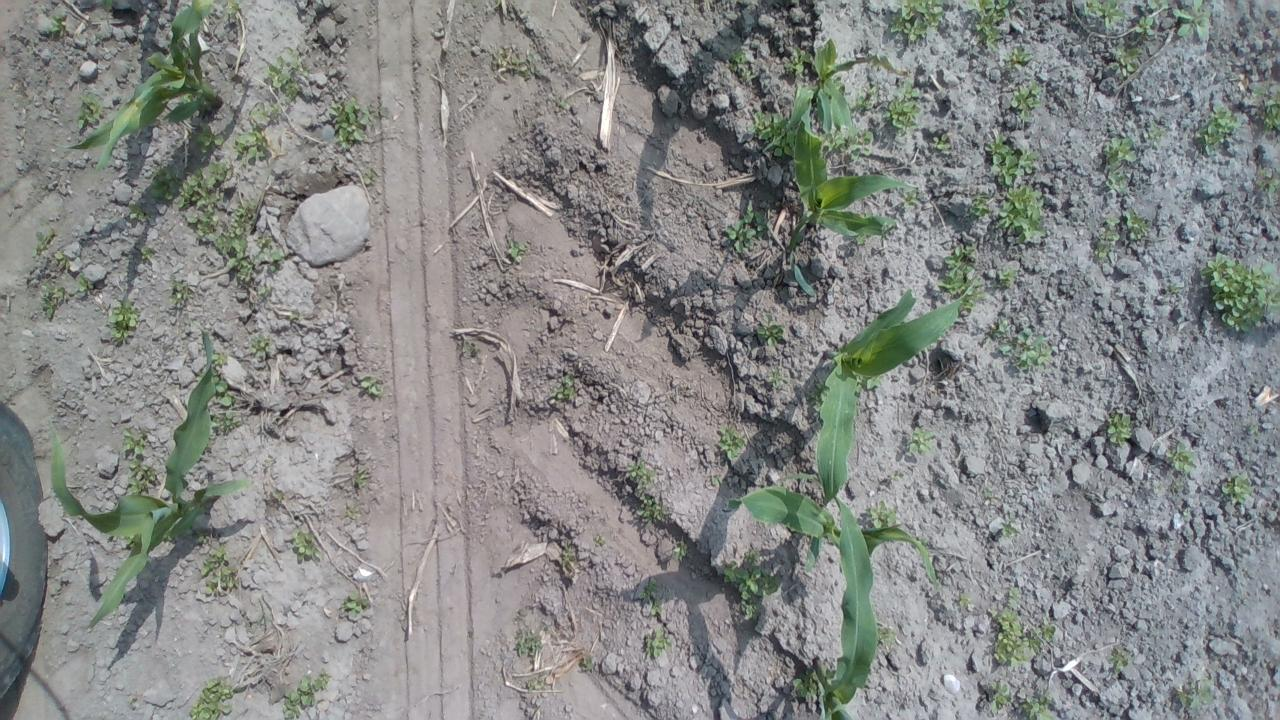Maize: (46, 322, 250, 626), (805, 282, 974, 581), (56, 0, 222, 169), (790, 100, 916, 298), (781, 472, 878, 720), (724, 490, 946, 590), (786, 34, 890, 142)
Weeds: (150, 161, 254, 282), (1202, 252, 1280, 332), (723, 548, 780, 622), (990, 608, 1056, 666), (937, 241, 988, 311), (990, 318, 1052, 372), (985, 134, 1041, 188), (966, 0, 1024, 52), (996, 184, 1046, 244), (326, 96, 381, 150), (120, 426, 157, 494), (882, 80, 924, 138), (282, 671, 331, 720), (724, 205, 769, 256), (266, 47, 309, 99), (890, 0, 944, 41), (746, 110, 794, 156), (1102, 136, 1136, 194), (1199, 105, 1241, 151), (202, 546, 240, 594), (191, 677, 233, 720), (825, 129, 873, 161), (1173, 0, 1212, 37), (1008, 80, 1042, 122), (1092, 214, 1120, 262), (1254, 84, 1280, 134), (1080, 0, 1126, 28), (108, 300, 140, 340), (715, 424, 747, 461), (76, 93, 106, 132), (1177, 679, 1213, 711), (208, 366, 236, 406), (1021, 688, 1056, 720), (255, 236, 285, 273), (192, 121, 225, 154), (1111, 46, 1145, 78), (494, 48, 534, 75), (1104, 412, 1134, 448), (39, 278, 64, 321), (233, 130, 268, 160), (246, 102, 283, 130), (1222, 472, 1252, 506), (290, 528, 320, 560), (782, 45, 816, 73), (1164, 440, 1194, 471), (866, 498, 896, 528), (339, 588, 370, 616), (728, 47, 754, 80), (626, 462, 656, 490), (30, 226, 56, 258), (1125, 210, 1151, 242), (848, 84, 877, 112), (640, 576, 660, 616), (166, 278, 194, 306), (905, 428, 934, 455), (644, 629, 671, 658), (512, 632, 542, 658), (988, 680, 1011, 712), (638, 496, 666, 522), (551, 375, 578, 401), (793, 670, 818, 698), (806, 380, 827, 413), (208, 412, 242, 432), (1254, 166, 1280, 192), (757, 324, 785, 348), (852, 371, 881, 394), (1007, 47, 1032, 71), (968, 192, 991, 218), (1107, 646, 1130, 672), (999, 511, 1020, 538), (996, 265, 1016, 290), (876, 624, 898, 646), (360, 375, 383, 396), (868, 54, 894, 72), (1135, 16, 1156, 38), (506, 240, 529, 258), (49, 14, 66, 38), (350, 468, 370, 488), (250, 334, 270, 354), (52, 252, 70, 274), (72, 272, 93, 290), (126, 206, 147, 224), (1150, 122, 1164, 148), (224, 0, 242, 20), (673, 540, 689, 561), (902, 190, 918, 210), (929, 134, 948, 150), (1006, 587, 1020, 608), (192, 529, 210, 545), (138, 244, 154, 260), (768, 372, 784, 387), (561, 544, 575, 561), (256, 284, 272, 298), (1148, 0, 1170, 10), (364, 167, 376, 185), (211, 352, 226, 366), (584, 655, 596, 672), (344, 504, 357, 519), (528, 680, 544, 692), (822, 668, 833, 684), (959, 592, 969, 609), (1248, 422, 1258, 436), (194, 371, 206, 382), (890, 472, 904, 481), (916, 536, 928, 546), (182, 94, 194, 103), (558, 98, 568, 108), (983, 488, 993, 498), (101, 0, 112, 9), (94, 32, 105, 41), (1167, 286, 1179, 294), (711, 478, 720, 486), (595, 536, 603, 544), (856, 238, 864, 244)
